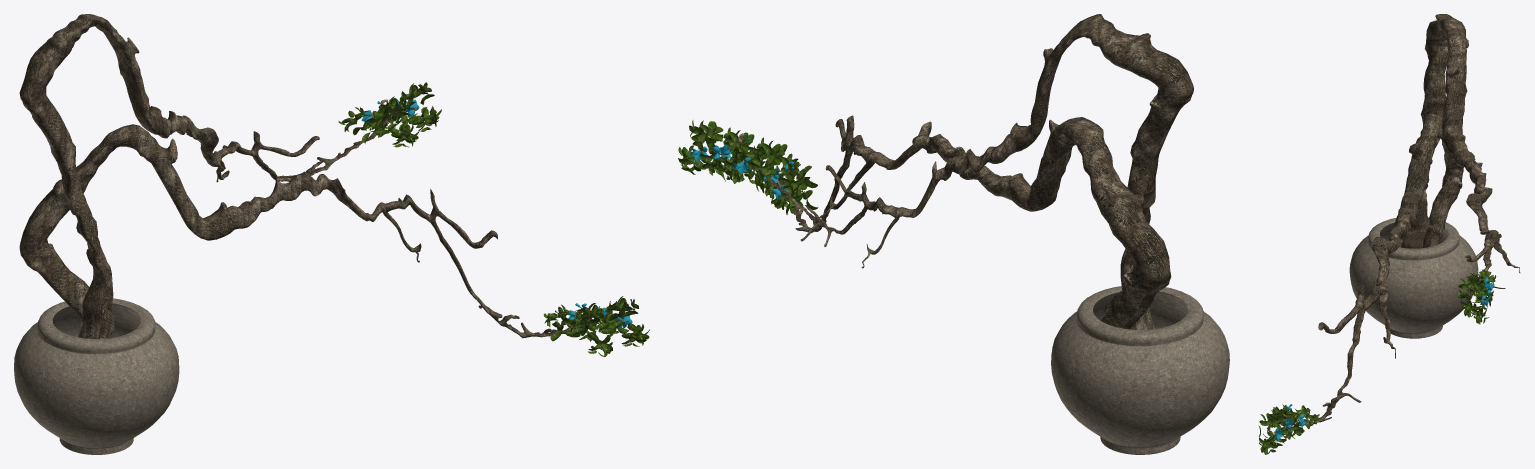
The picture shows the model from 3 angles, left to right: view 1: azimuth 30°, elevation 25°; view 2: azimuth 150°, elevation 25°; view 3: azimuth 270°, elevation 25°; orthographic projection. The views are drawn at different scales.
Parts seen in each view (by area): view 1: xiadele_Obj3d66_543646_75_453, xiadele_Obj3d66_543646_76_837, xiadele_Obj3d66_543646_77_513, xiadele_Obj3d66_543646_89_795, xiadele_Obj3d66_543646_86_522, xiadele_Obj3d66_543646_88_765, xiadele_Obj3d66_543646_82_692; view 2: xiadele_Obj3d66_543646_75_453, xiadele_Obj3d66_543646_77_513, xiadele_Obj3d66_543646_76_837, xiadele_Obj3d66_543646_82_692, xiadele_Obj3d66_543646_86_522, xiadele_Obj3d66_543646_88_765, xiadele_Obj3d66_543646_89_795, FL; view 3: xiadele_Obj3d66_543646_75_453, xiadele_Obj3d66_543646_76_837, xiadele_Obj3d66_543646_77_513, xiadele_Obj3d66_543646_88_765, xiadele_Obj3d66_543646_89_795, xiadele_Obj3d66_543646_82_692, xiadele_Obj3d66_543646_86_522, FL.
Boxes of the visible parts, <box> form: xiadele_Obj3d66_543646_75_453: <box>14,298,179,454</box>; xiadele_Obj3d66_543646_76_837: <box>19,14,406,338</box>; xiadele_Obj3d66_543646_77_513: <box>19,124,596,338</box>; xiadele_Obj3d66_543646_89_795: <box>564,296,649,346</box>; xiadele_Obj3d66_543646_86_522: <box>338,96,419,147</box>; xiadele_Obj3d66_543646_88_765: <box>543,303,612,356</box>; xiadele_Obj3d66_543646_82_692: <box>368,82,441,134</box>; xiadele_Obj3d66_543646_75_453: <box>1051,286,1229,454</box>; xiadele_Obj3d66_543646_77_513: <box>777,115,1171,329</box>; xiadele_Obj3d66_543646_76_837: <box>729,14,1193,329</box>; xiadele_Obj3d66_543646_82_692: <box>678,120,756,175</box>; xiadele_Obj3d66_543646_86_522: <box>715,127,778,185</box>; xiadele_Obj3d66_543646_88_765: <box>769,153,818,214</box>; xiadele_Obj3d66_543646_89_795: <box>749,137,807,196</box>; FL: <box>690,137,794,199</box>; xiadele_Obj3d66_543646_75_453: <box>1349,217,1478,338</box>; xiadele_Obj3d66_543646_76_837: <box>1401,14,1520,293</box>; xiadele_Obj3d66_543646_77_513: <box>1280,113,1463,426</box>; xiadele_Obj3d66_543646_88_765: <box>1263,404,1319,445</box>; xiadele_Obj3d66_543646_89_795: <box>1258,408,1297,454</box>; xiadele_Obj3d66_543646_82_692: <box>1457,276,1492,324</box>; xiadele_Obj3d66_543646_86_522: <box>1458,269,1496,317</box>; FL: <box>1274,270,1494,440</box>.
Bounding box in the file's own units: 800 × 585 × 444.
6 materials, 5 textured.
